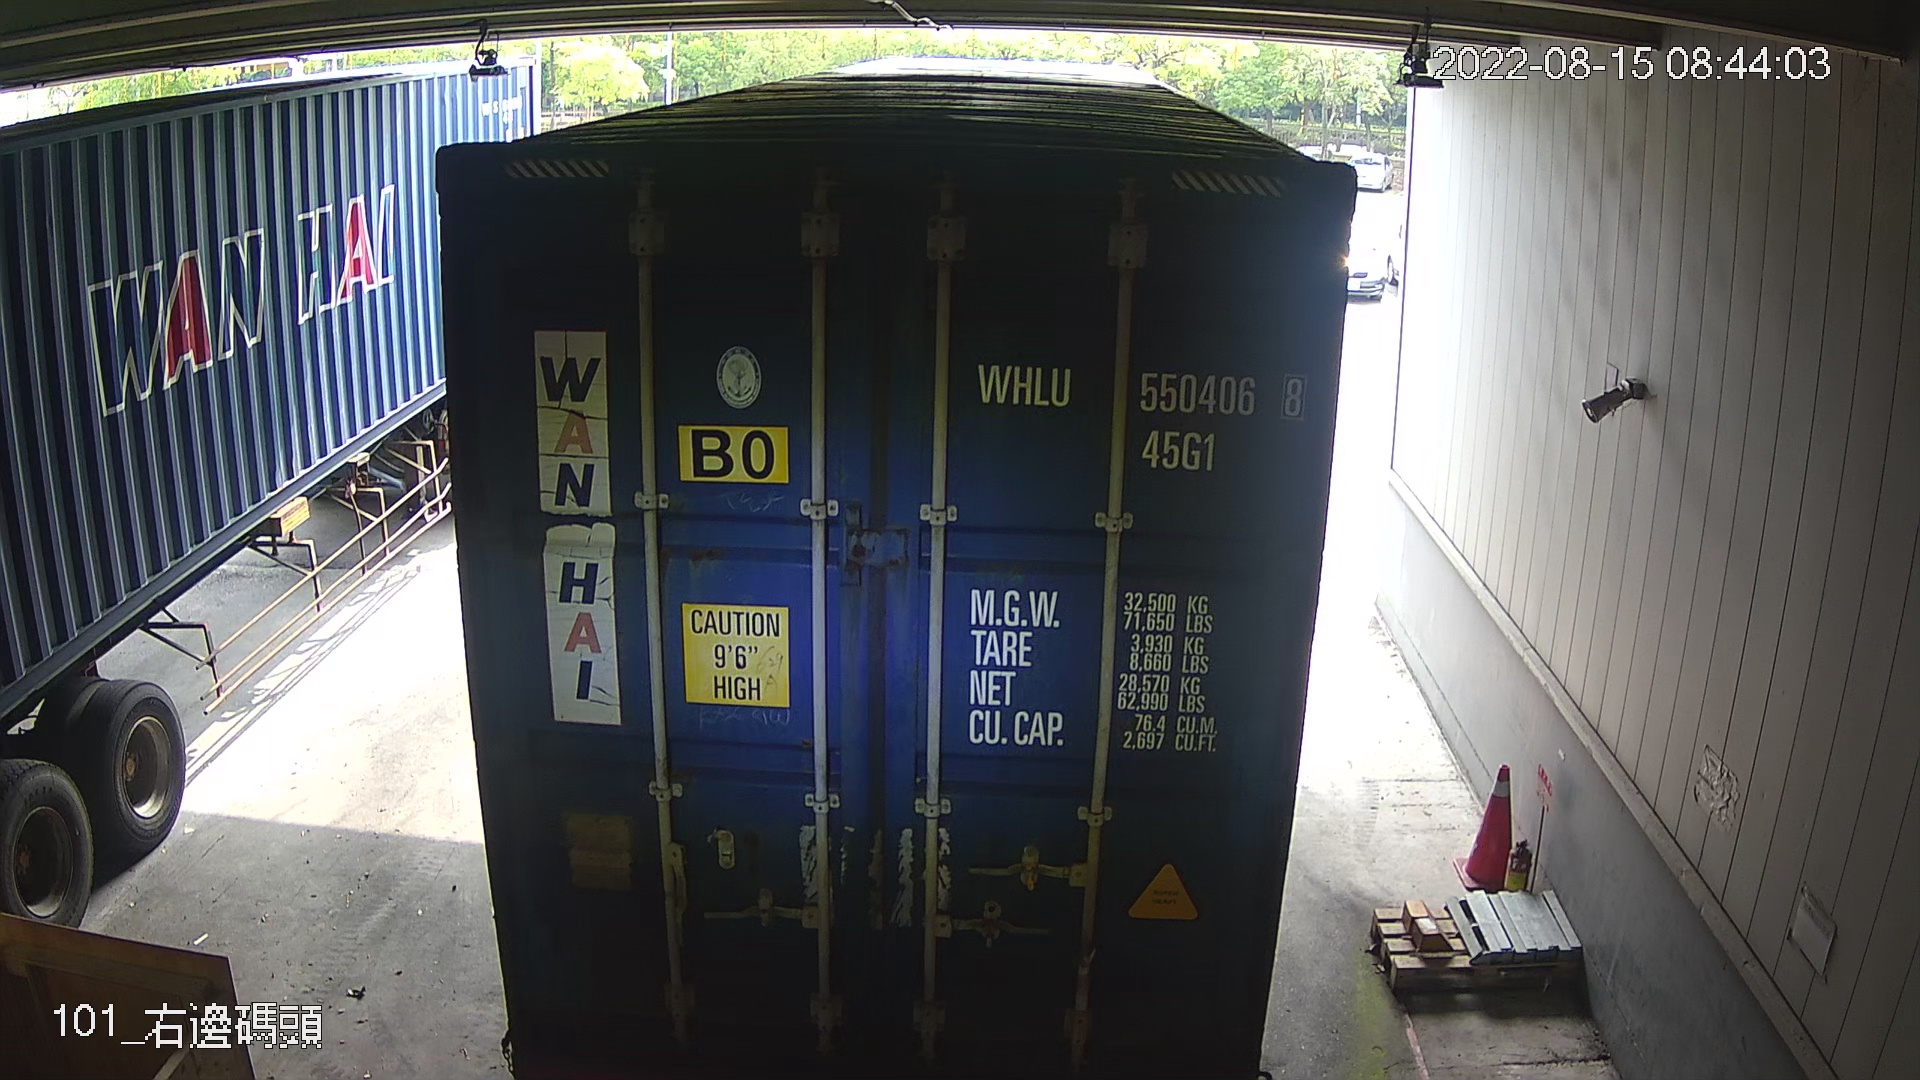container: (963, 348, 1313, 480)
